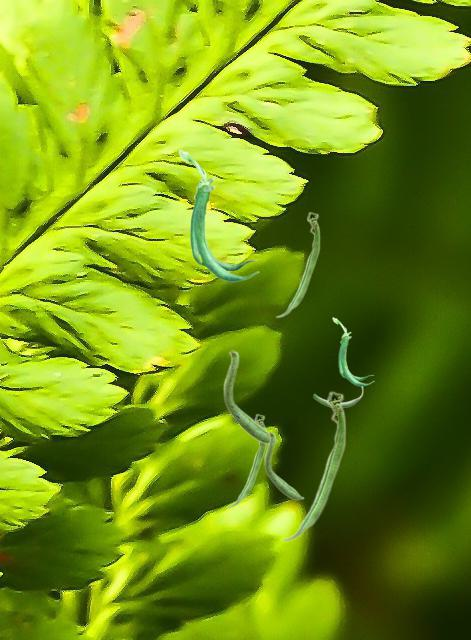french_bean: (178, 149, 258, 281), (281, 390, 345, 541), (223, 349, 277, 443), (275, 211, 319, 317), (226, 413, 265, 507), (332, 317, 373, 385), (264, 431, 303, 499), (313, 386, 362, 407)
